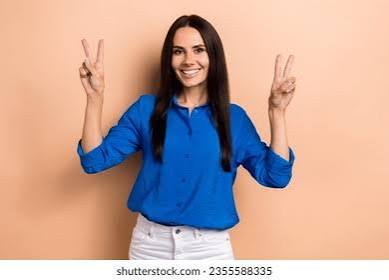peace_sign: (77, 30, 110, 97), (268, 50, 299, 118)
